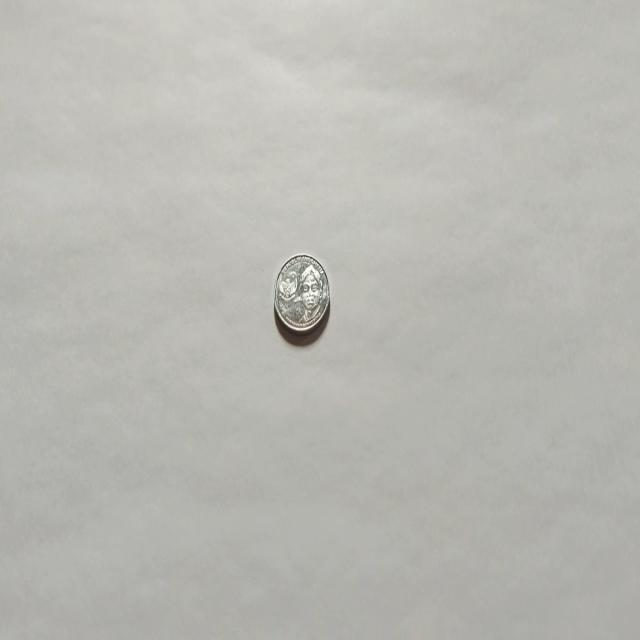dua ratus rupiah: (272, 251, 330, 337)
